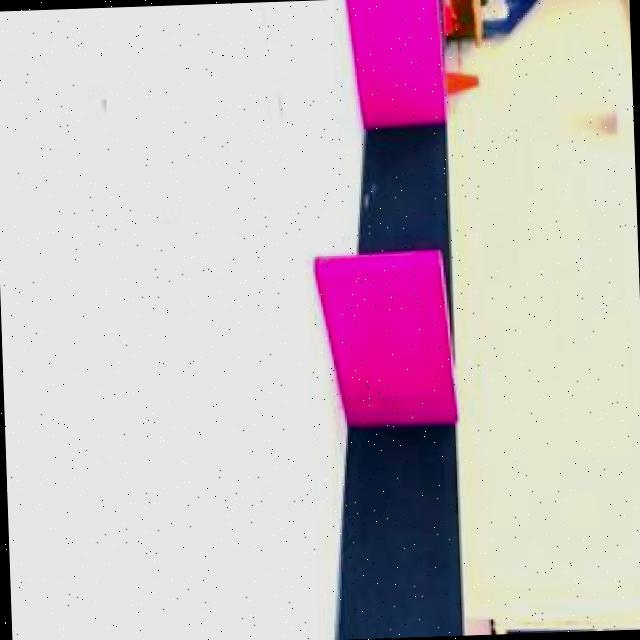xparking: (325, 250, 455, 426), (359, 0, 447, 126)
